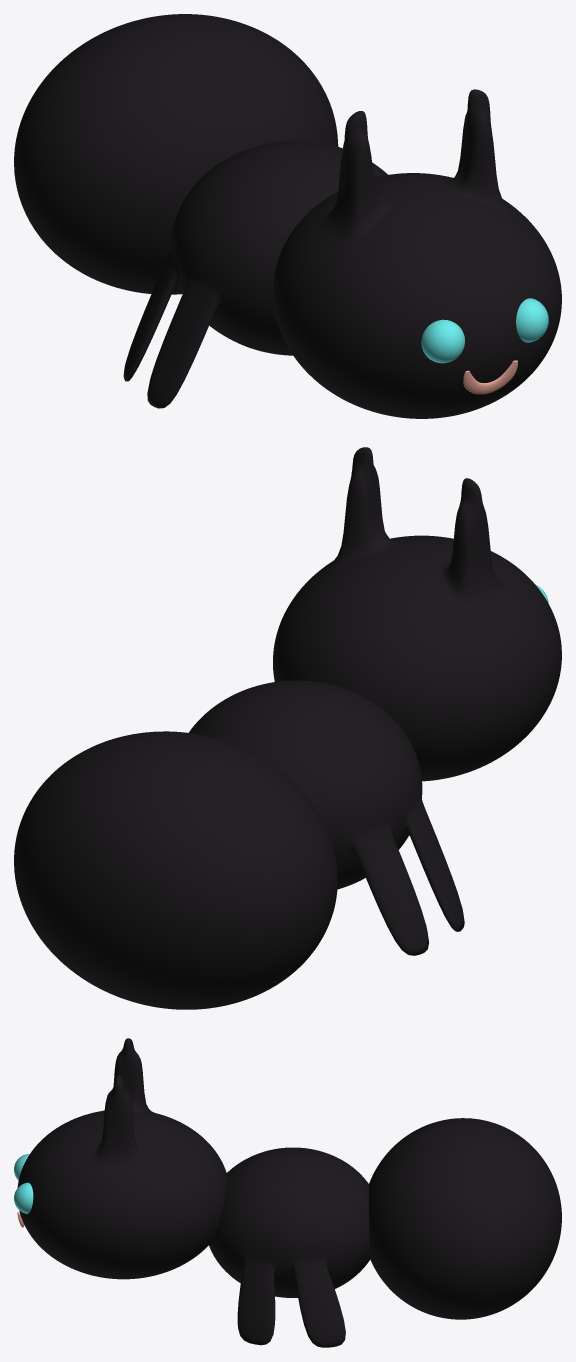
File: hormiga3.fbx
3 views of the same model, one above another, from view 1: azimuth 30°, elevation 25°; view 2: azimuth 150°, elevation 25°; view 3: azimuth 270°, elevation 25° (orthographic). The views are drawn at different scales.
Parts seen in each view (by area): view 1: Sphere.002; view 2: Sphere.002; view 3: Sphere.002.
Boxes of the visible parts, box(x1,y1,x2,y2) form: Sphere.002: box(14, 14, 561, 418); Sphere.002: box(14, 447, 561, 1009); Sphere.002: box(14, 1038, 561, 1347).
Size of the model in its own units: 211 by 239 by 477.
